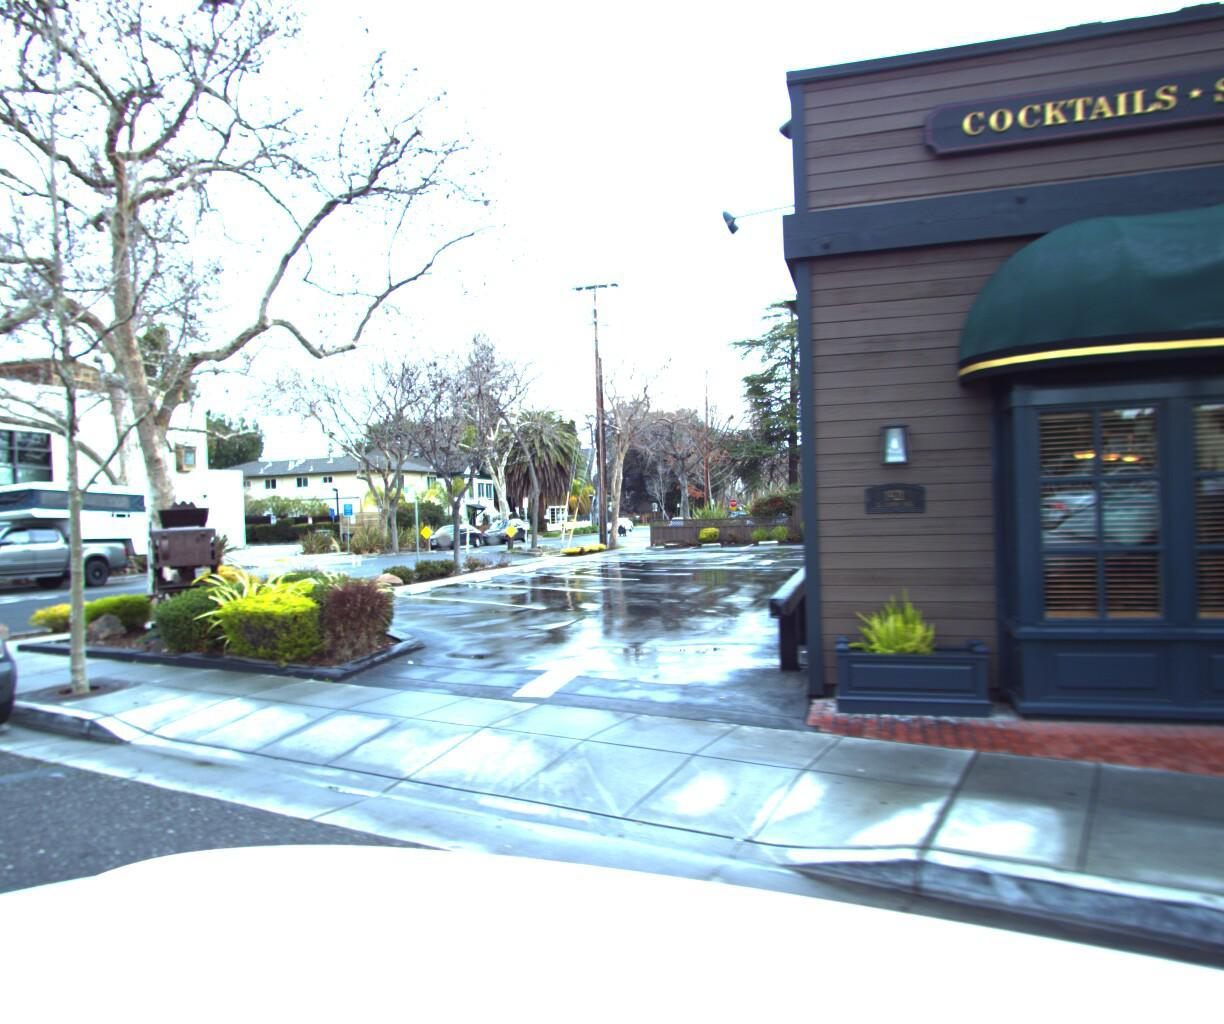car: (0, 471, 163, 601), (0, 545, 37, 786), (408, 510, 485, 544), (472, 510, 535, 540), (600, 509, 633, 529)
